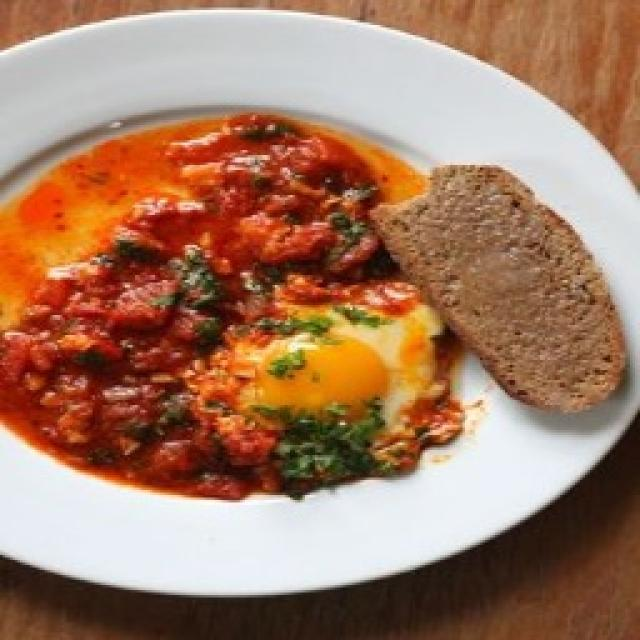Chakchouka: (0, 111, 462, 498)
